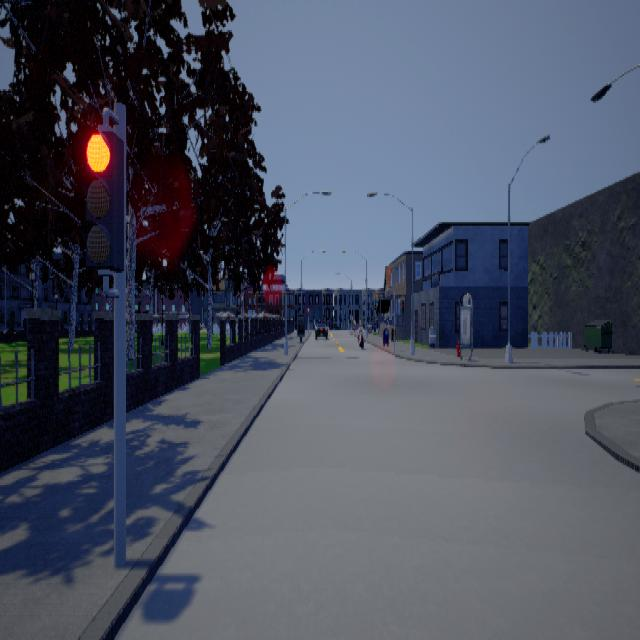bike: (356, 325, 367, 349)
red_light: (82, 106, 125, 297)
vehicle: (314, 318, 331, 341)
